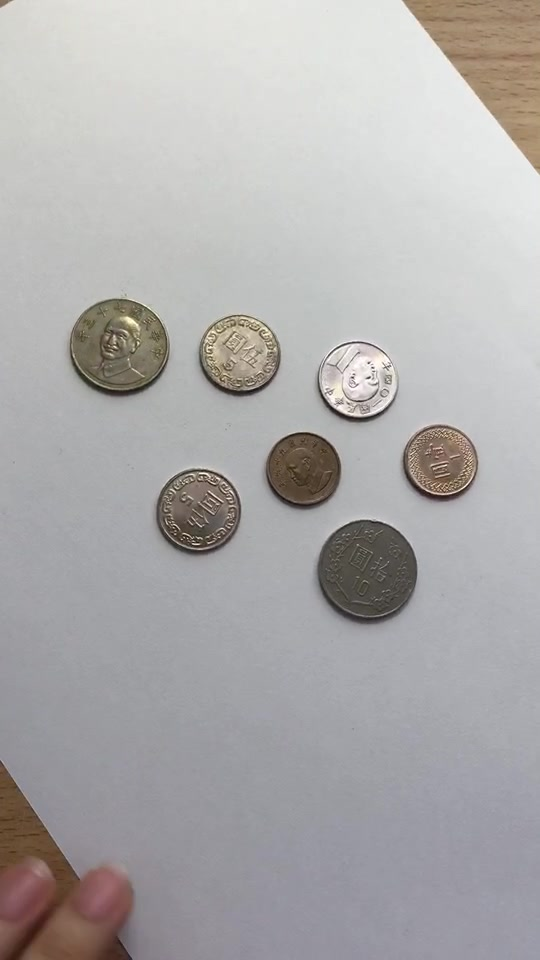1 dallar: (390, 422, 483, 504), (259, 428, 352, 510)
10 dallar: (67, 286, 175, 402), (311, 512, 419, 628)
5 dallar: (186, 305, 291, 403), (308, 325, 413, 423), (145, 461, 250, 559)
